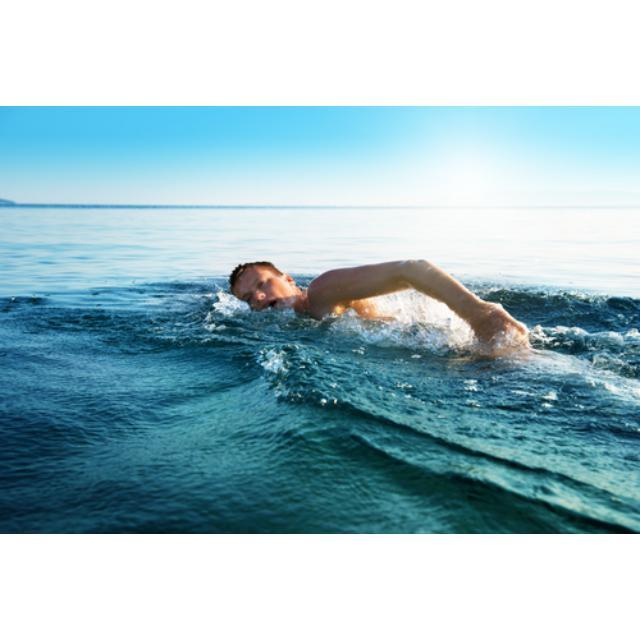human: (221, 252, 533, 365)
